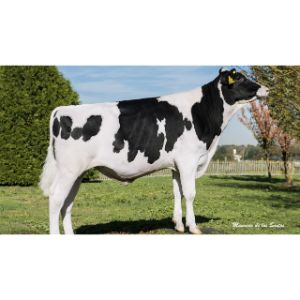cow: (37, 67, 269, 233)
